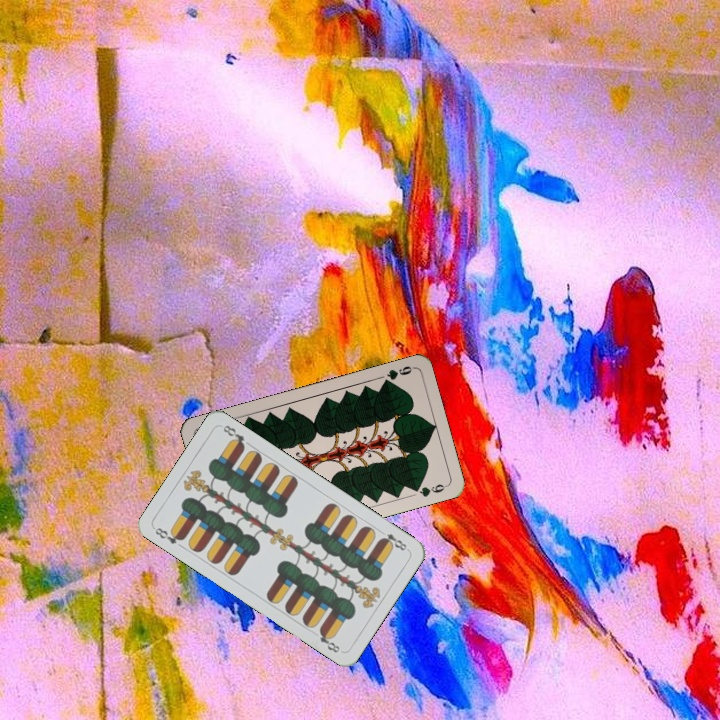E8: (376, 526, 411, 553), (151, 523, 187, 547)
G9: (378, 362, 416, 388)
